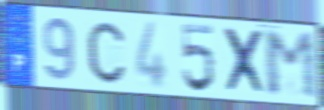4: (134, 19, 172, 92)
5: (181, 22, 218, 95)
9: (41, 15, 77, 84)
C: (85, 20, 127, 86)
M: (261, 30, 321, 102)
X: (221, 26, 270, 98)
